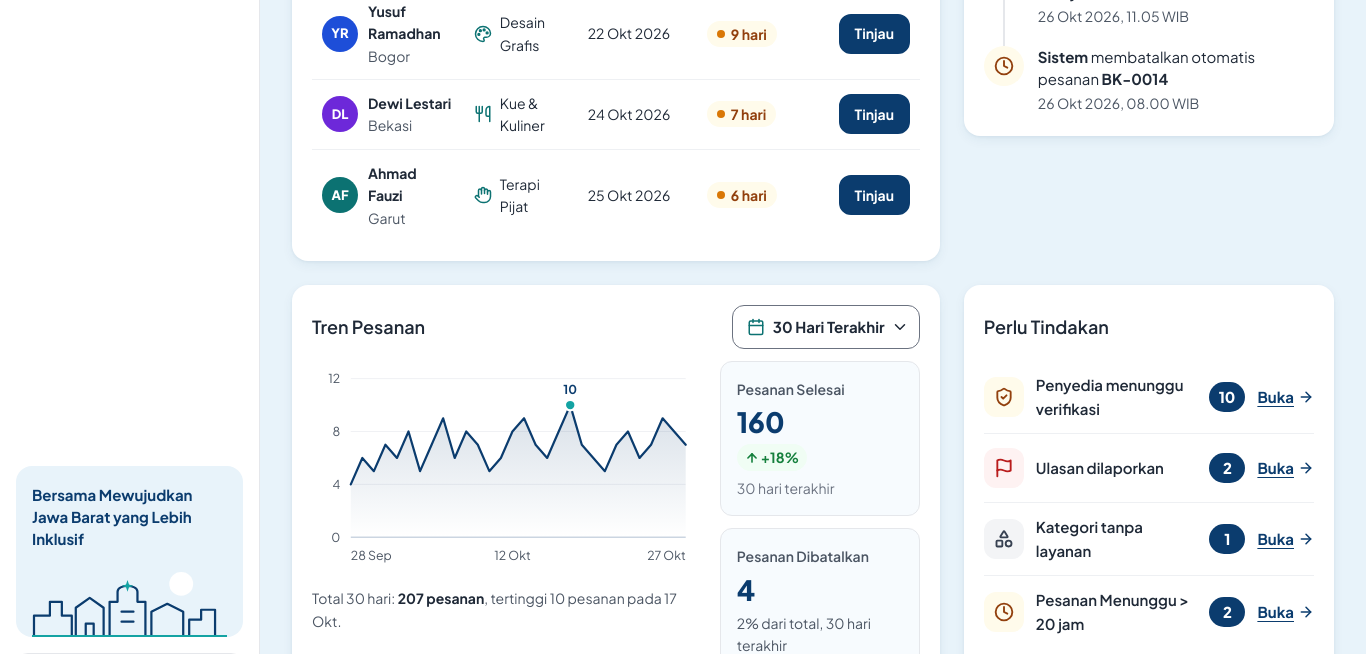
Dashboard Admin › rentang waktu mengubah grafik tren pesanan
The image size is (1366, 654).
(page scrolled)
Select "7 Hari Terakhir" in the dropdown named "Rentang waktu" at (841, 327), box [773,307,909,347]
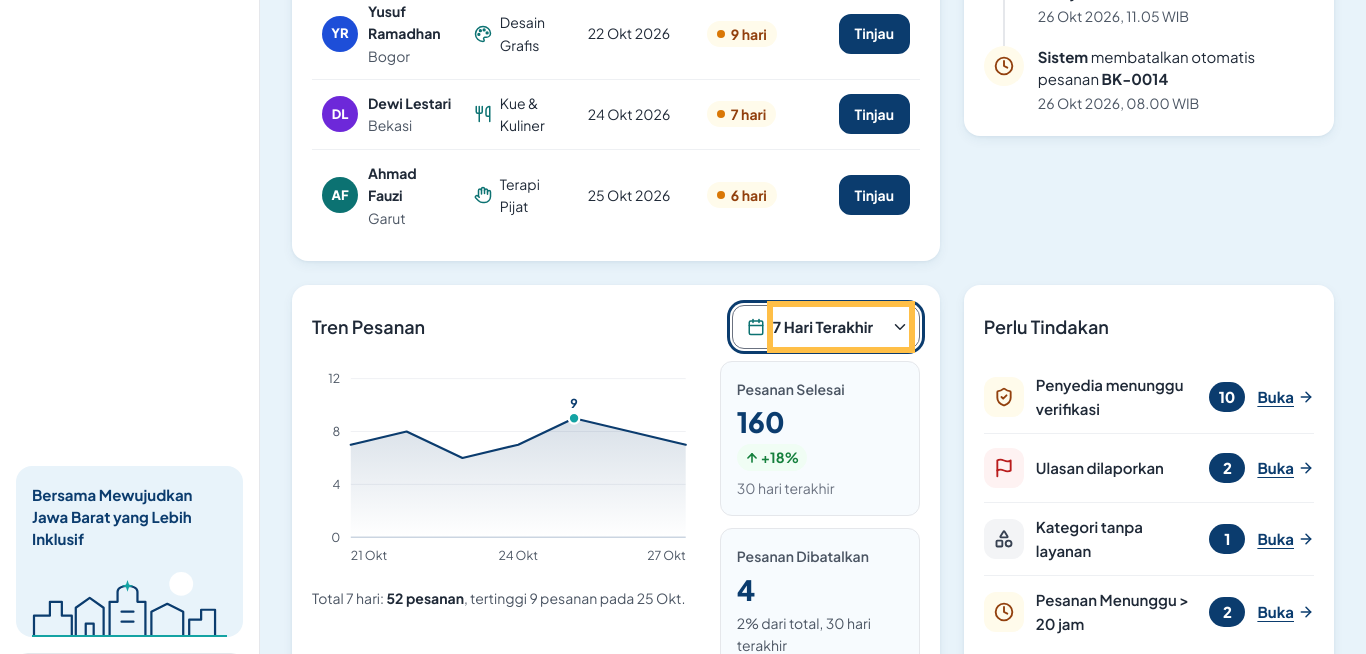
expect the text "Total 7 hari: 52 pesanan, tertinggi 9 pesanan pada 25 Okt." is shown: met, box [312,587,700,610]
expect the picture named "pesanan harian 21 okt 2026 sampai 27 okt 2026" is shown: met, box [312,361,700,581]
